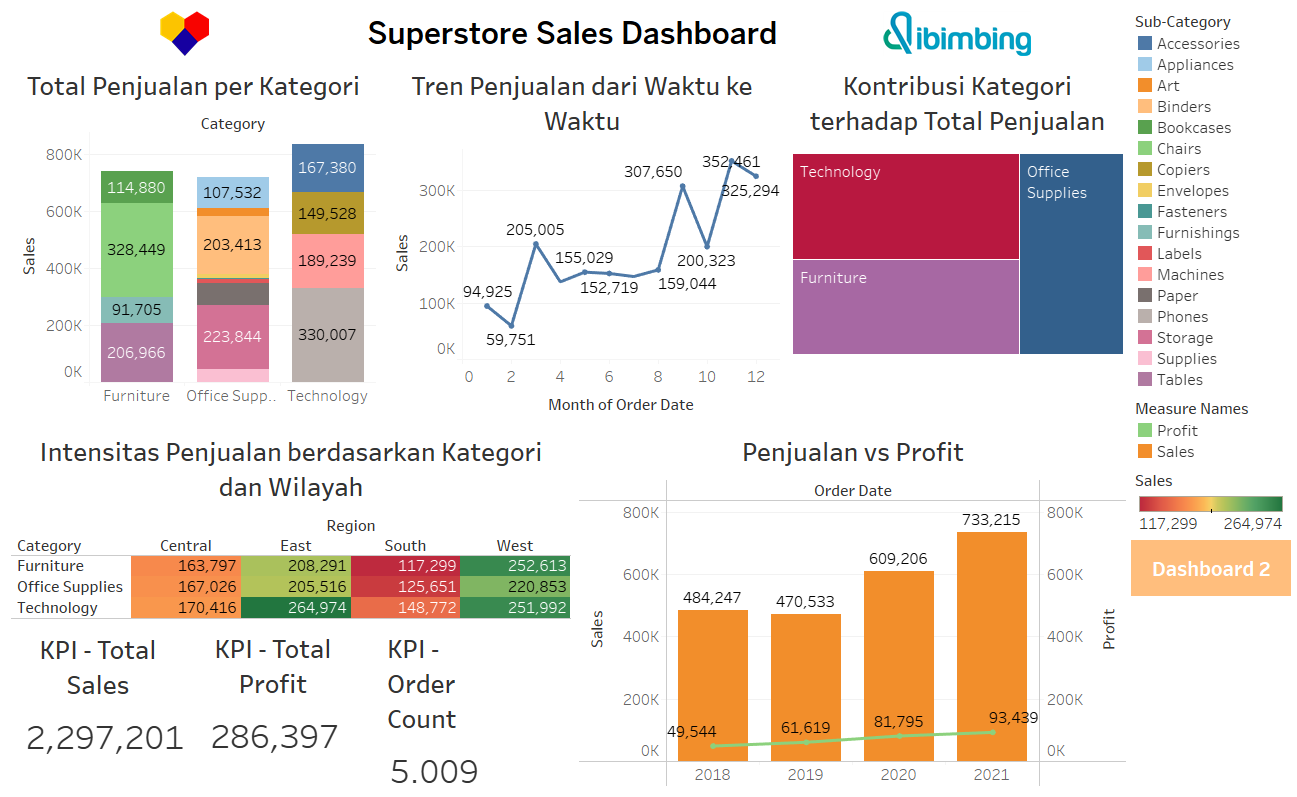

What the dashboard file says about the page in this screenshot:
{"tool":"tableau","page":{"name":"Dashboard 1","canvas":[1300,800],"ordinal":0},"visuals":[{"type":"image","param":"Image/Polygon 1.png","box":[8,8,353,53]},{"type":"text","box":[361,8,424,53]},{"type":"image","param":"Image/logo-dibimbing.original.jpg","box":[785,8,347,53]},{"type":"legend","title":"Bar Chart","param":"[federated.1w0gi35071jwla1bxj45n1uhsry2].[none:Sub-Category:nk]","box":[1132,8,160,387]},{"type":"worksheet","title":"Bar Chart","mark":"Bar","rows":["Sales"],"cols":["Category"],"box":[8,61,373,365.5]},{"type":"worksheet","title":"Line Chart","mark":"Line","rows":["Sales"],"cols":["Order Date"],"box":[381,61,404,365.5]},{"type":"worksheet","title":"Treemap","mark":"Automatic","box":[785,61,347,365.5]},{"type":"legend","title":"Dual-Axis Chart","param":"[federated.1w0gi35071jwla1bxj45n1uhsry2].[:Measure Names]","box":[1132,395,160,72]},{"type":"worksheet","title":"Heatmap","mark":"Automatic","rows":["Category"],"cols":["Region"],"box":[8,426.5,568,365.5]},{"type":"worksheet","title":"Dual-Axis Chart","mark":"Automatic","rows":["Sales","Profit"],"cols":["Order Date"],"box":[576,426.5,556,365.5]},{"type":"legend","title":"Heatmap","param":"[federated.1w0gi35071jwla1bxj45n1uhsry2].[sum:Sales:qk]","box":[1132,467,160,73]},{"type":"dashboard-object","box":[1132,541,160,56]}]}

Visuals, with their boxes in screenshot pixels (x1, y1, x2, y2), scaled from the page's 1300x800 canvas onto the 1297x797 screenshot:
image: 8 8 360 61
text: 360 8 783 61
image: 783 8 1129 61
"Bar Chart" legend: 1129 8 1289 394
"Bar Chart" worksheet (Bar marks): 8 61 380 425
"Line Chart" worksheet (Line marks): 380 61 783 425
"Treemap" worksheet: 783 61 1129 425
"Dual-Axis Chart" legend: 1129 394 1289 465
"Heatmap" worksheet: 8 425 575 789
"Dual-Axis Chart" worksheet: 575 425 1129 789
"Heatmap" legend: 1129 465 1289 538
dashboard-object: 1129 539 1289 595
